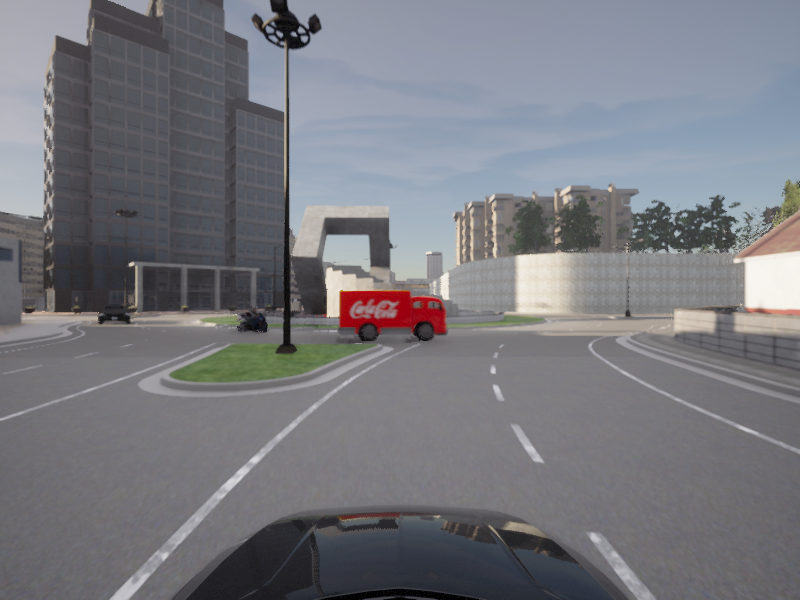vehicle: (337, 290, 450, 343), (232, 308, 272, 334), (97, 303, 131, 325)
